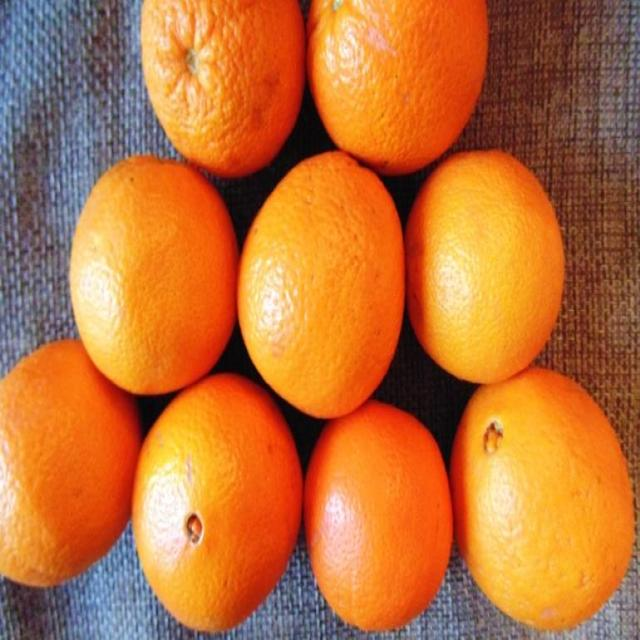fruit: (452, 369, 634, 626), (132, 373, 304, 630), (240, 151, 405, 415), (69, 157, 237, 392), (406, 151, 566, 384), (2, 339, 142, 584), (305, 401, 454, 628), (309, 1, 486, 173), (142, 1, 306, 176)
